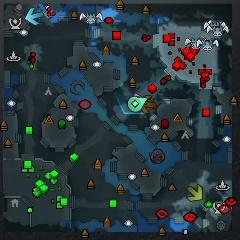p2: (128, 97, 148, 112)
x1: (132, 93, 140, 97)
x2: (188, 184, 202, 202)
x3: (25, 8, 44, 26)
x5: (143, 95, 156, 115)
